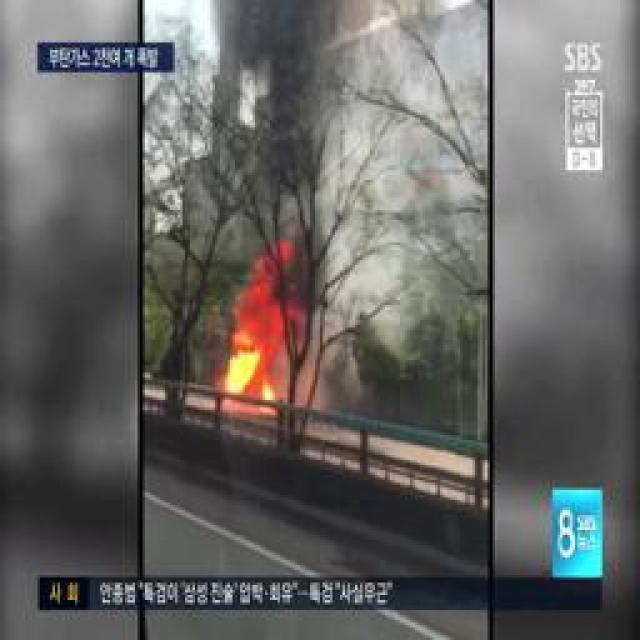Fire: (225, 262, 295, 397)
